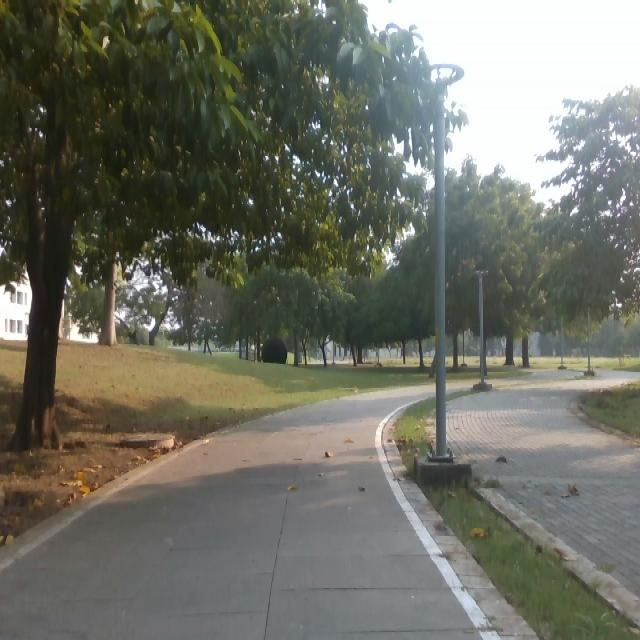lane: (2, 379, 527, 638)
